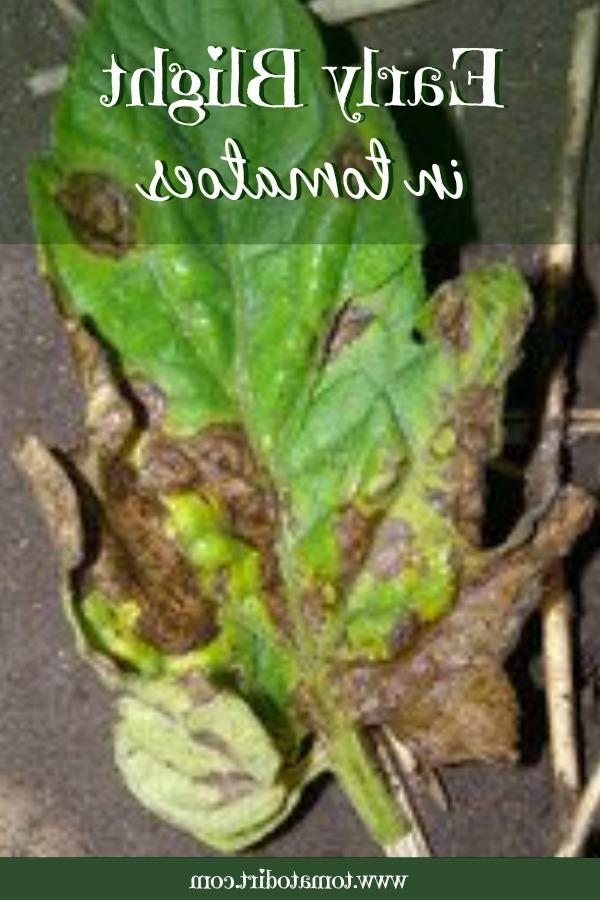Tomato Early blight leaf: (23, 13, 556, 794)
